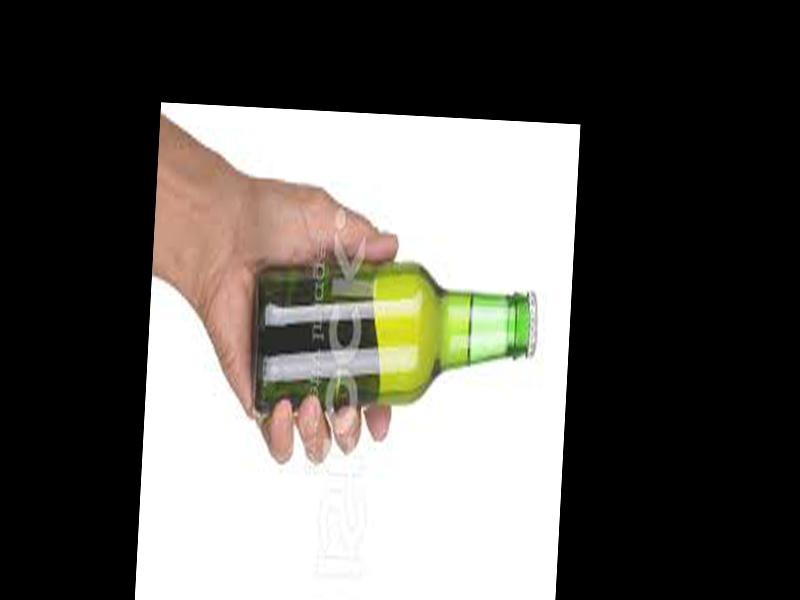Beer: (249, 251, 540, 418)
